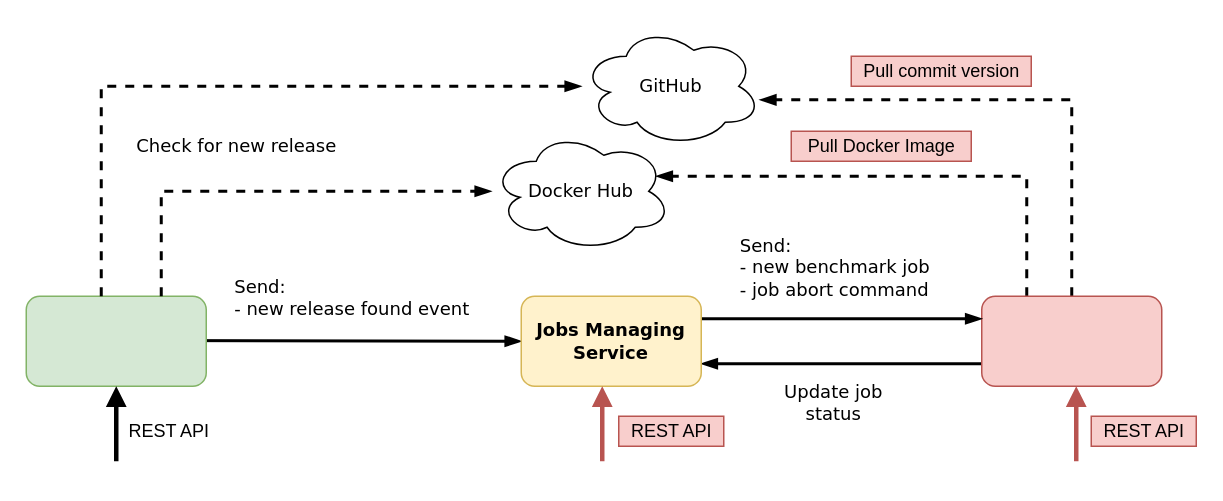
The diagram is 1223 pixels wide and 501 high, and some of its shapes have lost their labels. Here are the shapes that lost their labels. From the top down, the box of each, then its label:
(25, 295, 206, 386): Hooks Checking Service
(980, 295, 1162, 386): Triplestore Benchmarking Service
